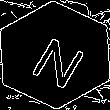N_NE: (21, 23, 89, 87)
